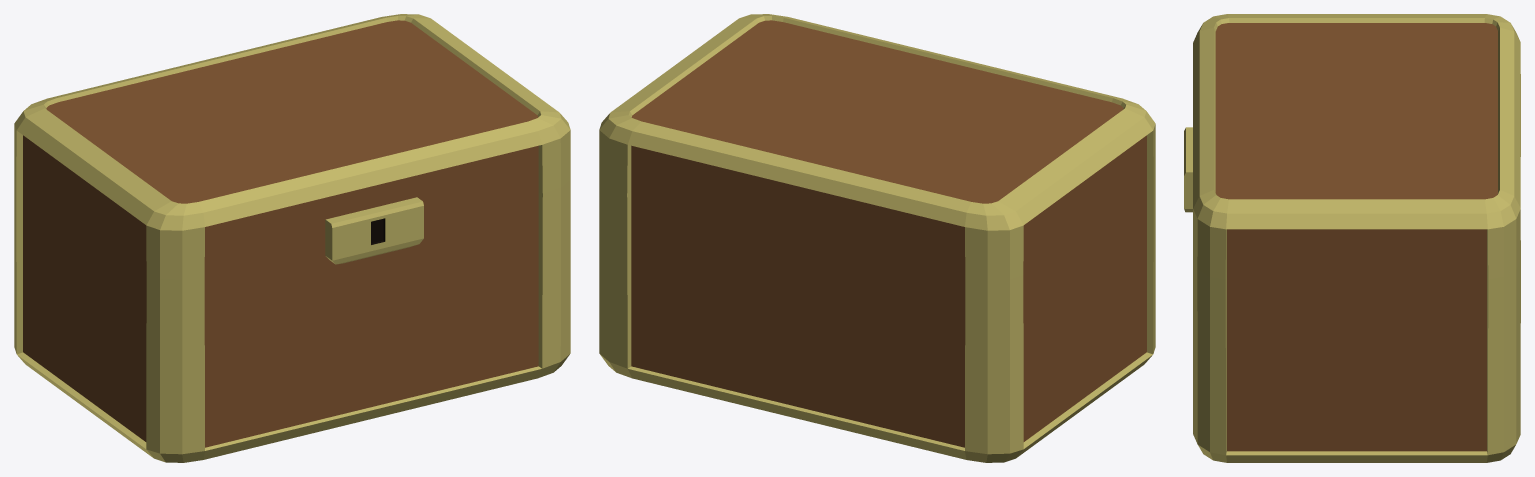
Rendered from laatikko.fbx.
The picture shows the model from 3 angles, left to right: view 1: azimuth 30°, elevation 25°; view 2: azimuth 150°, elevation 25°; view 3: azimuth 270°, elevation 25°; orthographic projection.
Parts seen in each view (by area): view 1: pohja, kansi; view 2: pohja, kansi; view 3: kansi, pohja.
Boxes of the visible parts, x1,y1,x2,y2 form: pohja: (14,174,570,462); kansi: (14,14,570,279); pohja: (599,174,1155,462); kansi: (599,14,1155,279); kansi: (1184,14,1520,279); pohja: (1193,92,1520,462).
Size of the model in its own units: 61.8 by 36.01 by 42.33.
